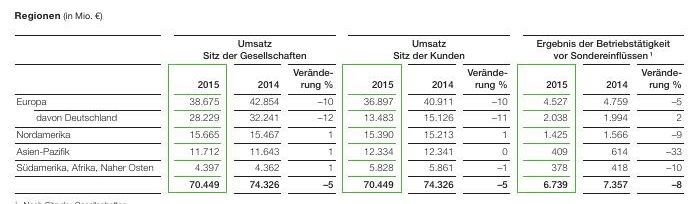table: (0, 0, 695, 204)
